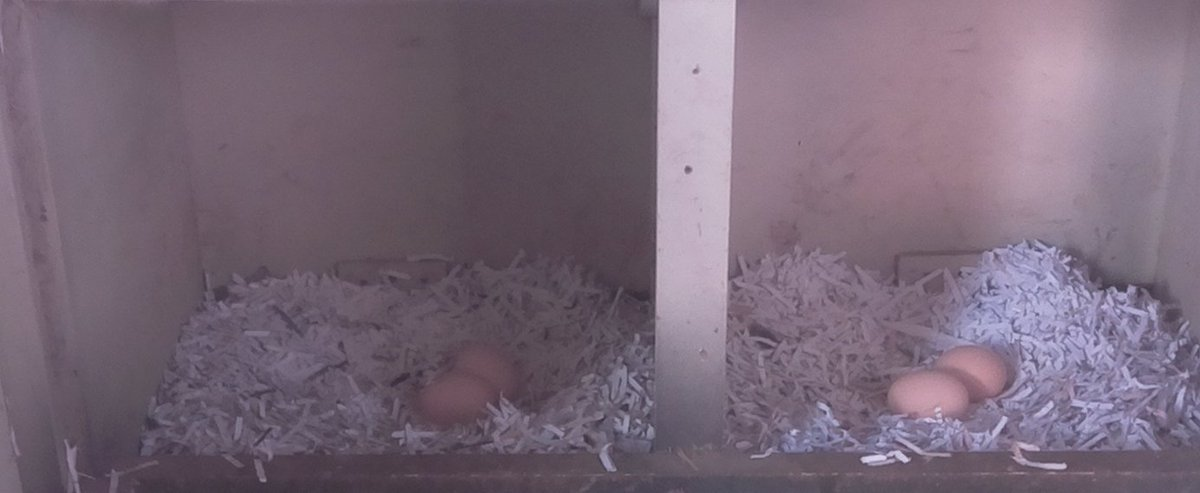egg: (418, 369, 504, 428), (884, 367, 973, 424), (450, 342, 527, 404), (932, 344, 1012, 401)
